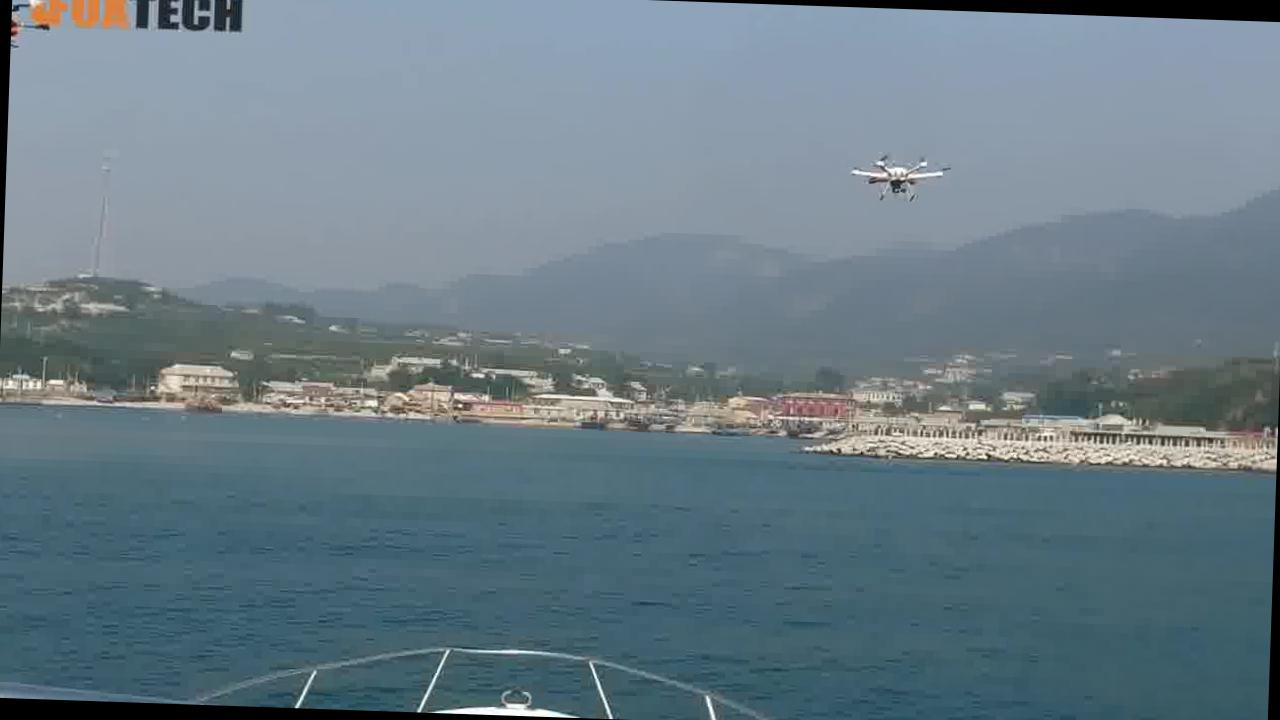drone: (843, 135, 958, 215)
